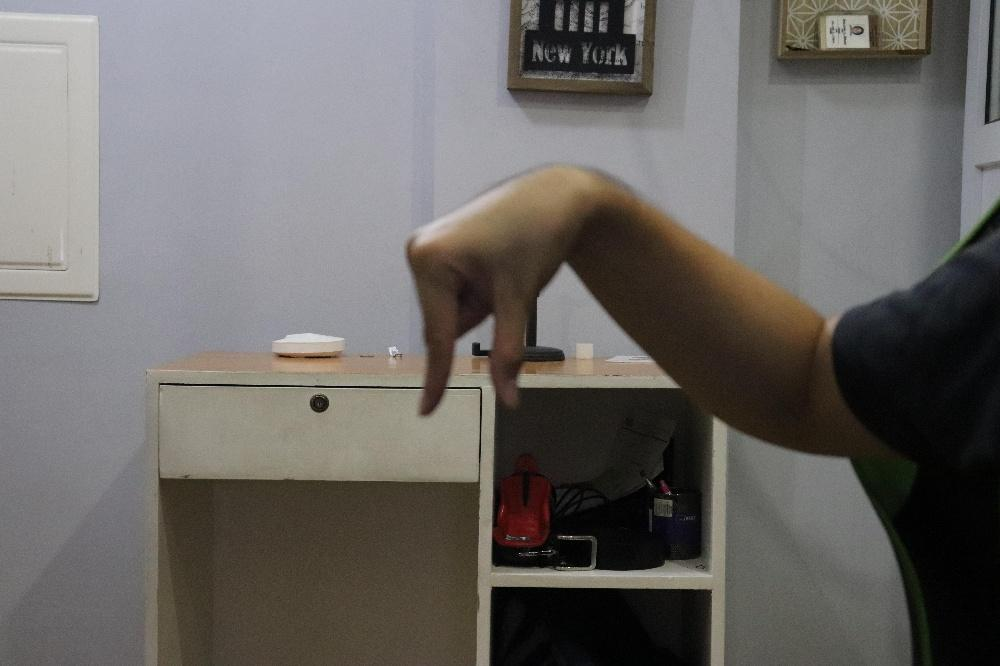q: (404, 161, 579, 416)
